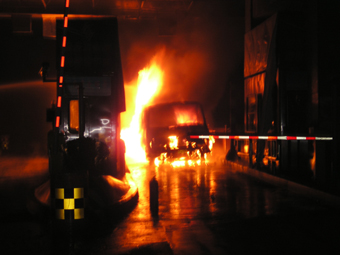fire: (114, 63, 225, 168)
